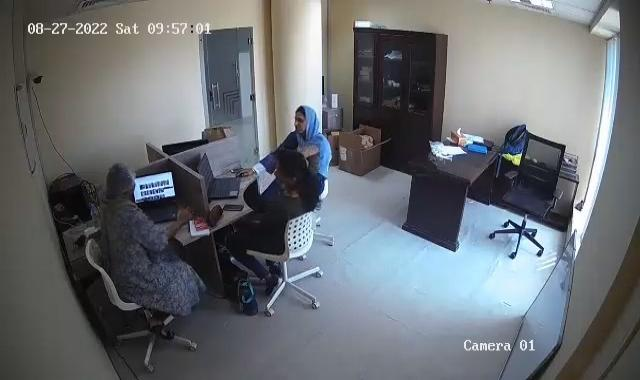hairnet: (105, 162, 138, 200)
no_hairnet: (273, 153, 308, 190), (295, 105, 318, 140)
